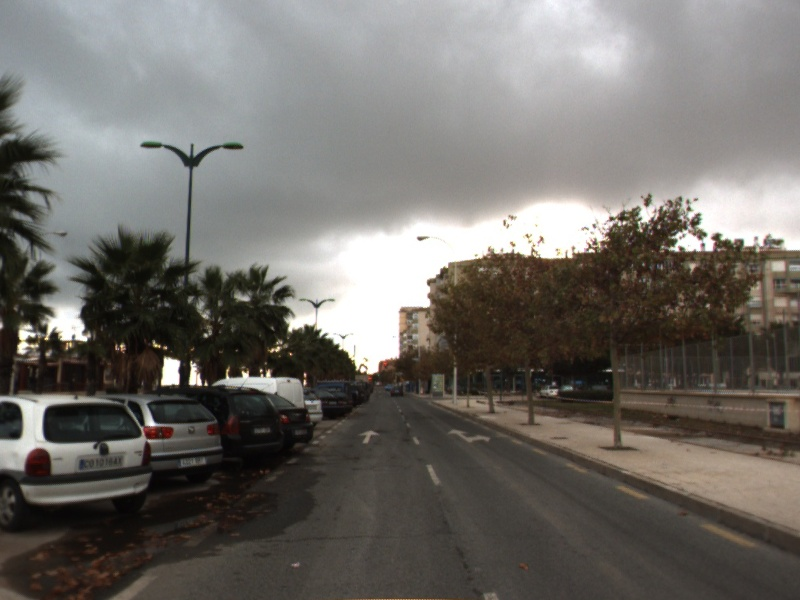STRAIGHT: (356, 429, 382, 444)
STRAIGHT_RIGHT: (446, 427, 493, 444)
